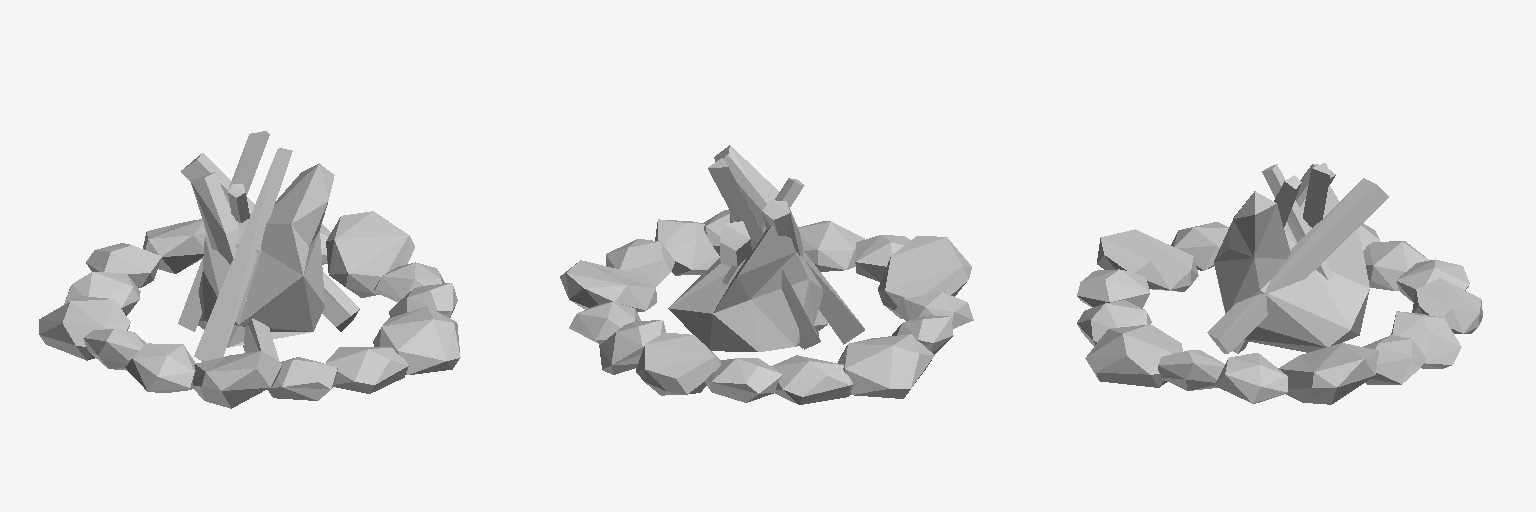
File: camp_fire1.obj
3 renders of one model, left to right at view 1: azimuth 30°, elevation 25°; view 2: azimuth 150°, elevation 25°; view 3: azimuth 270°, elevation 25°, orthographic.
Visible parts, largest first — view 1: Fire2_Icosphere.002; view 2: Fire2_Icosphere.002; view 3: Fire2_Icosphere.002.
Part boxes in pixels (left/top/right/bottom): Fire2_Icosphere.002: left=39, top=131, right=460, bottom=408; Fire2_Icosphere.002: left=560, top=145, right=973, bottom=404; Fire2_Icosphere.002: left=1077, top=163, right=1482, bottom=404.
Bounding box in the file's own units: 2.84 × 1.55 × 2.78.